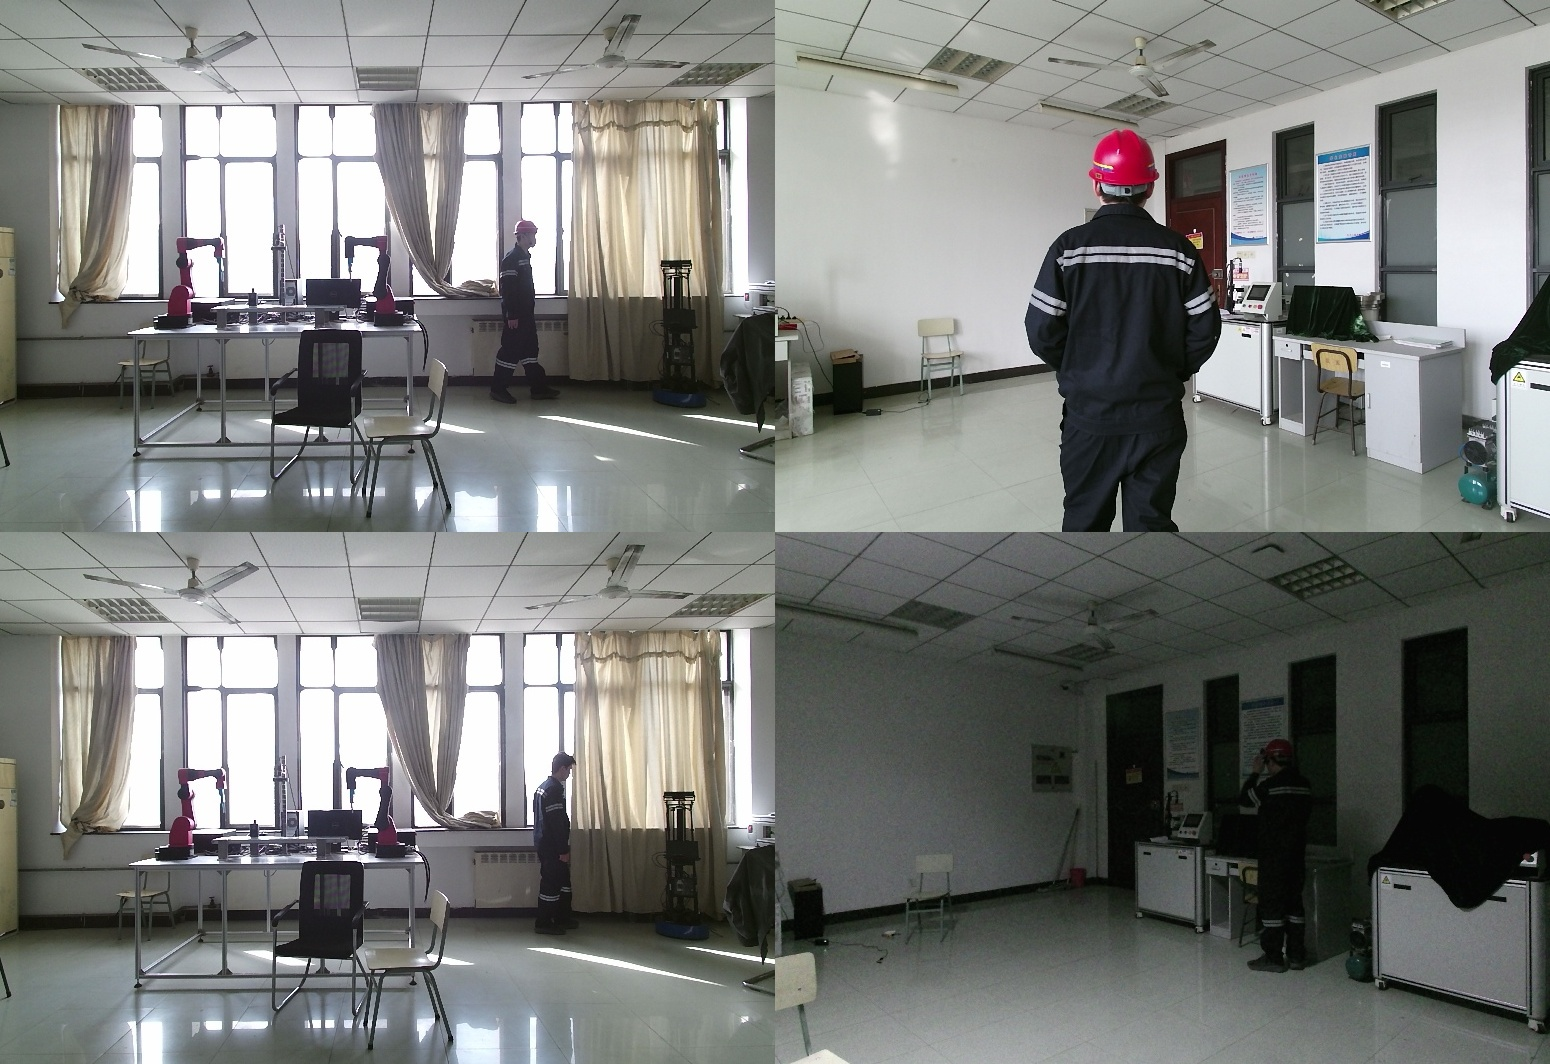person: (1027, 129, 1242, 532), (1243, 737, 1333, 971), (490, 220, 562, 412), (535, 758, 602, 941)
